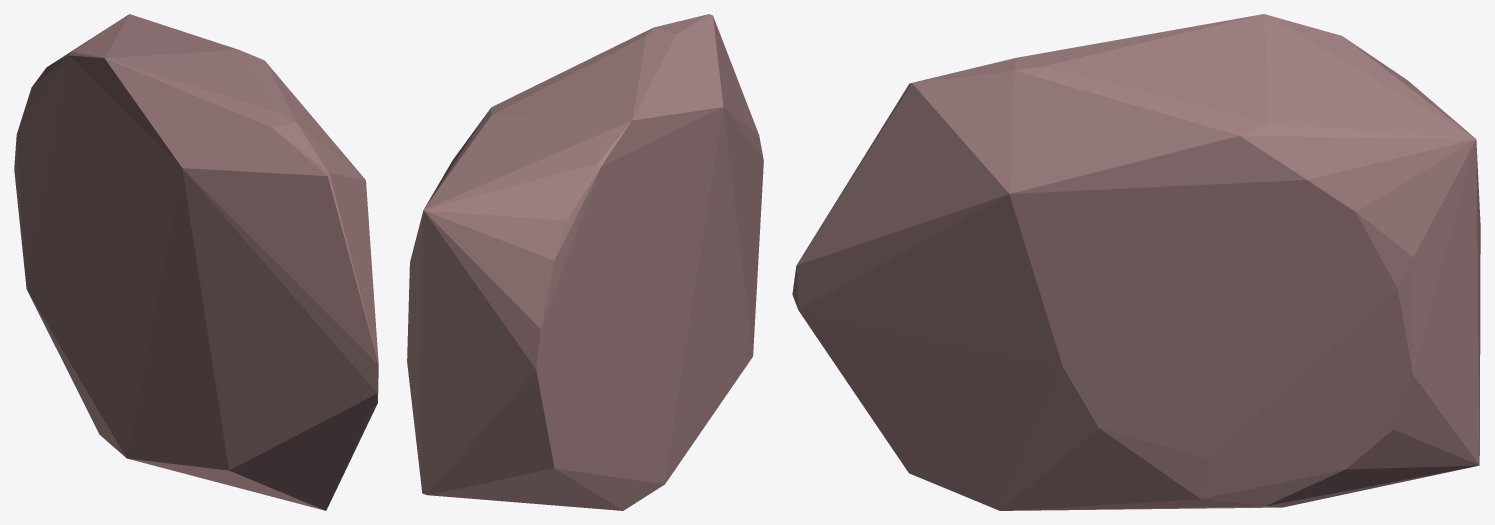
File: measurement_clock_alarm_a01.glb
3 renders of one model, left to right at view 1: azimuth 30°, elevation 25°; view 2: azimuth 150°, elevation 25°; view 3: azimuth 270°, elevation 25°, orthographic. The views are drawn at different scales.
Visible parts, largest first — view 1: geometry_0; view 2: geometry_0; view 3: geometry_0.
Boxes of the visible parts, x1=… form: geometry_0: x1=14, y1=14, x2=378, y2=510; geometry_0: x1=407, y1=14, x2=763, y2=510; geometry_0: x1=792, y1=14, x2=1480, y2=510.
Bounding box in the file's own units: 0.1572 × 0.3426 × 0.4784.
